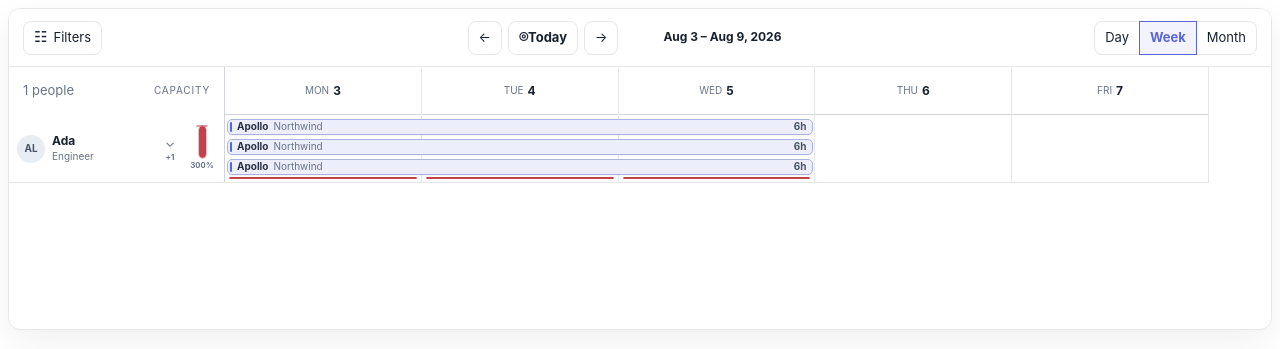
Scenario: Scheduler › shows three lanes and expands a person inline to all allocations
The image size is (1280, 349).
Click the button named "Expand allocations for Ada Lovelace": [170, 148] box x1=159 y1=133 x2=181 y2=164
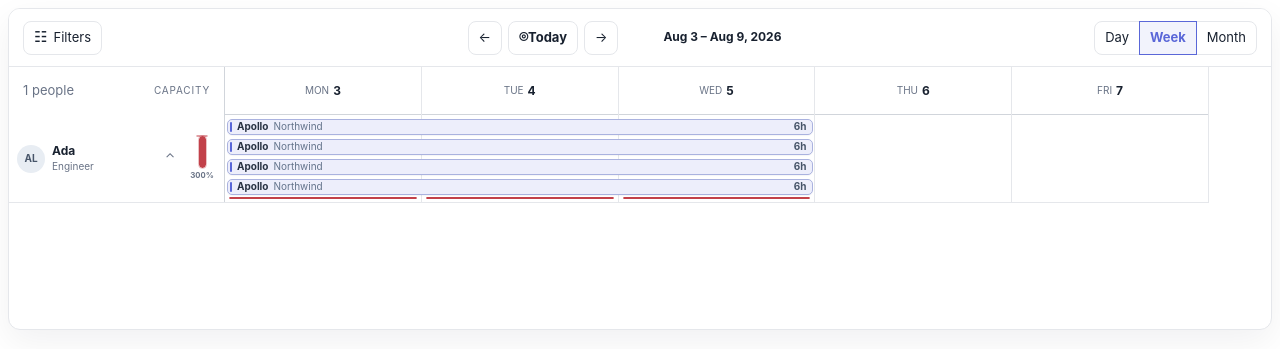
Now the button named "Collapse allocations for Ada Lovelace" is expanded, box x1=159 y1=144 x2=181 y2=174
